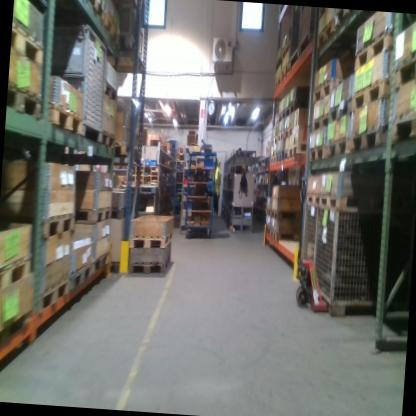pallet: (11, 204, 78, 242), (353, 28, 396, 76), (6, 76, 45, 121), (10, 20, 46, 68), (0, 249, 34, 297), (37, 273, 71, 319), (352, 75, 391, 114), (319, 195, 385, 215), (46, 0, 102, 22), (311, 74, 347, 107), (350, 125, 386, 157), (129, 251, 172, 277), (68, 259, 95, 300), (392, 46, 416, 92), (129, 227, 174, 251), (390, 113, 416, 148), (76, 202, 114, 224), (48, 104, 86, 126), (328, 97, 354, 125), (91, 247, 110, 281), (102, 15, 121, 49), (326, 136, 350, 159), (317, 20, 335, 50), (334, 10, 362, 29), (100, 80, 120, 105), (285, 101, 306, 123), (312, 110, 331, 133), (270, 207, 298, 222), (99, 127, 117, 149), (271, 228, 297, 242), (309, 143, 326, 163), (304, 191, 320, 209), (280, 63, 291, 85), (288, 145, 307, 157), (283, 124, 295, 140), (281, 43, 290, 64), (277, 110, 288, 124), (274, 77, 282, 93), (282, 151, 292, 163), (274, 57, 281, 74), (269, 136, 278, 149), (276, 152, 283, 165), (278, 132, 284, 144), (269, 157, 277, 165)
pallet_truck: (288, 171, 342, 318)
stillage: (309, 203, 409, 323), (42, 18, 111, 147), (114, 0, 147, 63), (299, 196, 319, 272), (297, 7, 320, 60), (287, 6, 303, 71)
